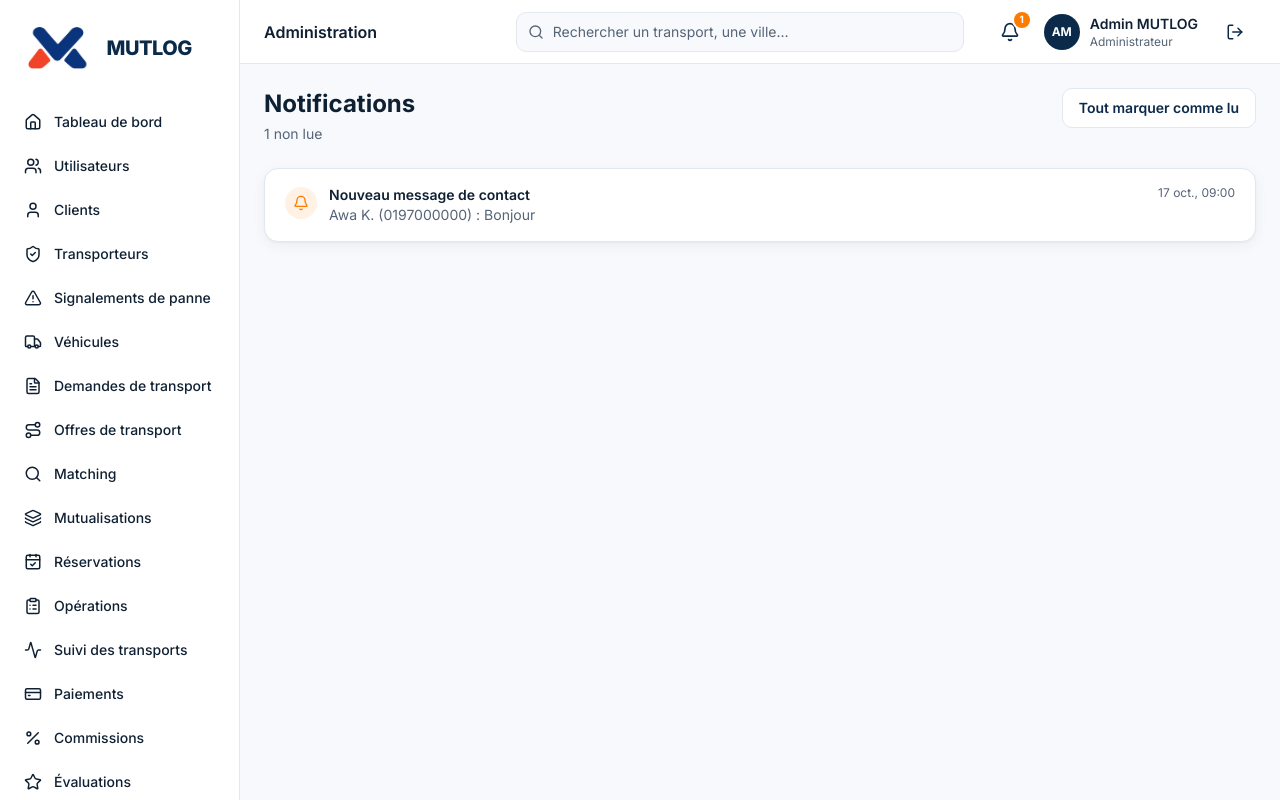
Scenario: messages de contact : du visiteur à l’administrateur › cliquer la notification ouvre le message, le marque lu et le notifie comme lu côté serveur
What coordinates should you click on to do the following:
click the text "Nouveau message de contact"
I would click on:
 (430, 194)
Its box is left=329, top=186, right=530, bottom=203.
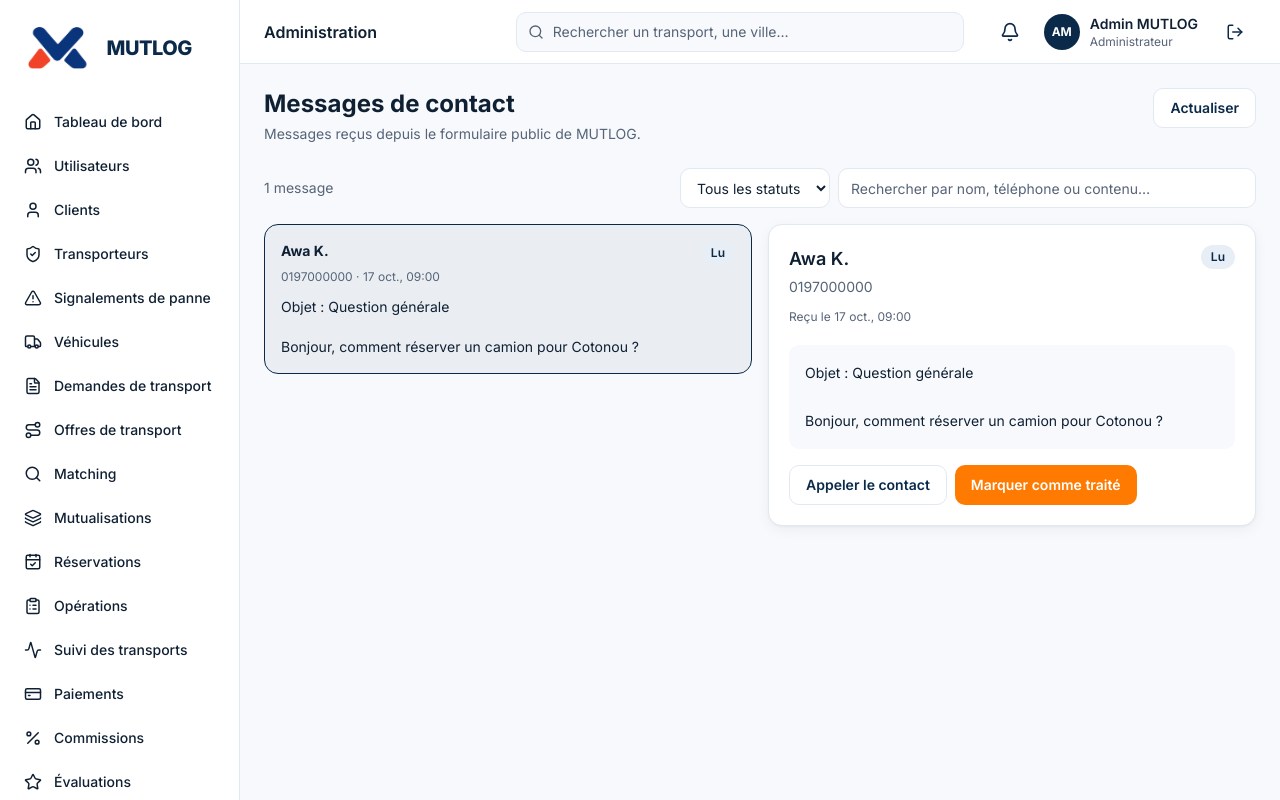
Expected: the text "comment réserver un camion pour Cotonou" below "Reçu le" is shown, left=805, top=364, right=1163, bottom=429
